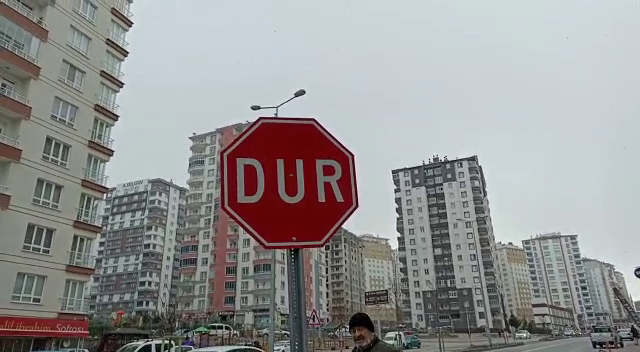stop: (218, 115, 360, 252)
